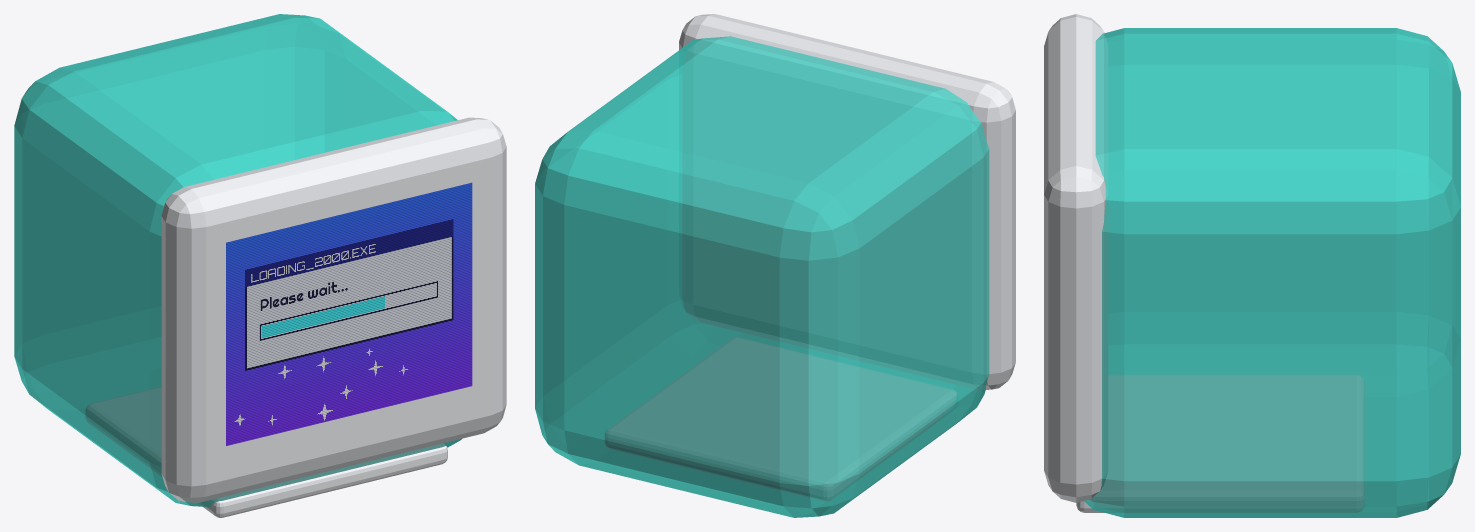
The model's file is Tech_CRT.fbx.
3 views of the same model, side by side, from view 1: azimuth 30°, elevation 25°; view 2: azimuth 150°, elevation 25°; view 3: azimuth 270°, elevation 25° (orthographic). The views are drawn at different scales.
Parts seen in each view (by area): view 1: Tech_CRT; view 2: Tech_CRT; view 3: Tech_CRT.
Part boxes in pixels (x1=…): Tech_CRT: x1=14, y1=14, x2=506, y2=517; Tech_CRT: x1=535, y1=14, x2=1015, y2=517; Tech_CRT: x1=1044, y1=14, x2=1460, y2=517.
Size of the model in its own units: 0.52 by 0.5 by 0.5201.
Materials: 3 (1 with a texture image).
